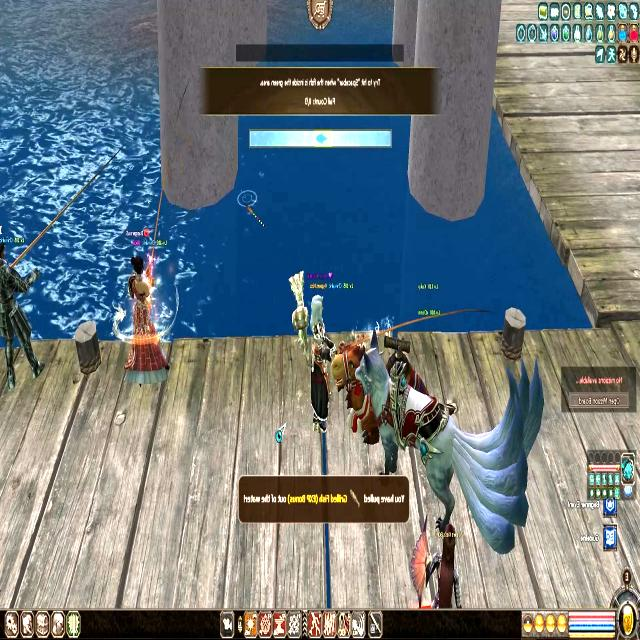fishes: (314, 130, 330, 146)
